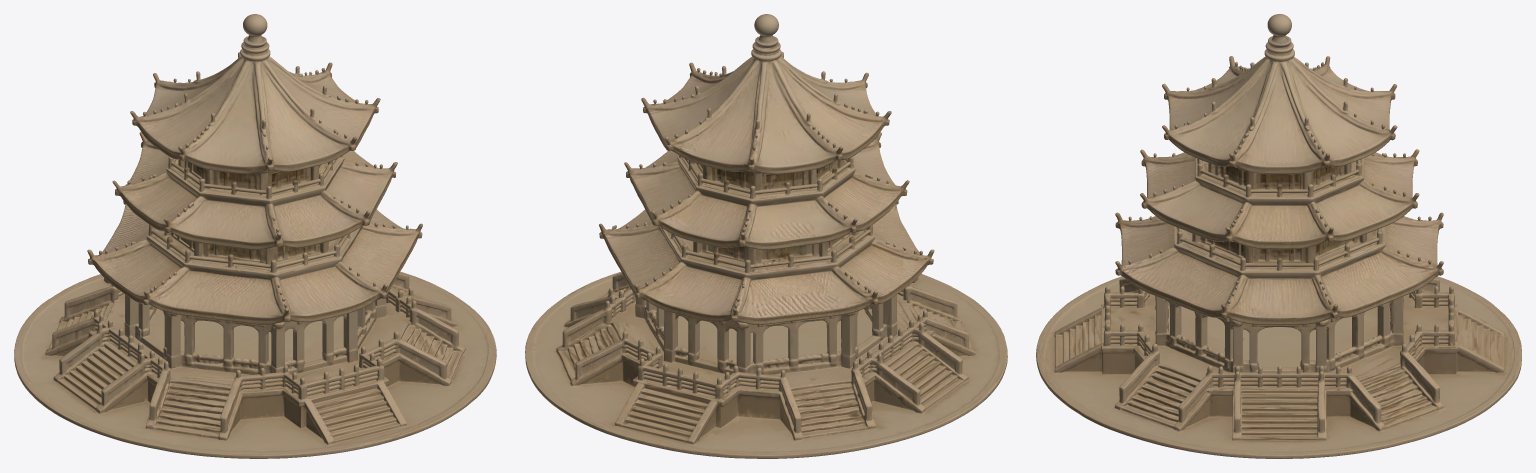
The model's file is chinese_temple__sacred_peak_shrine.glb.
3 renders of one model, left to right at view 1: azimuth 30°, elevation 25°; view 2: azimuth 150°, elevation 25°; view 3: azimuth 270°, elevation 25°, orthographic.
Parts seen in each view (by area): view 1: Object_4; view 2: Object_4; view 3: Object_4.
Boxes of the visible parts, x1,y1,x2,y2 form: Object_4: (14,14,496,458); Object_4: (525,14,1007,458); Object_4: (1036,14,1521,458).
Bounding box in the file's own units: 0.9408 × 0.7324 × 0.9439.
Materials: 1 (1 with a texture image).
